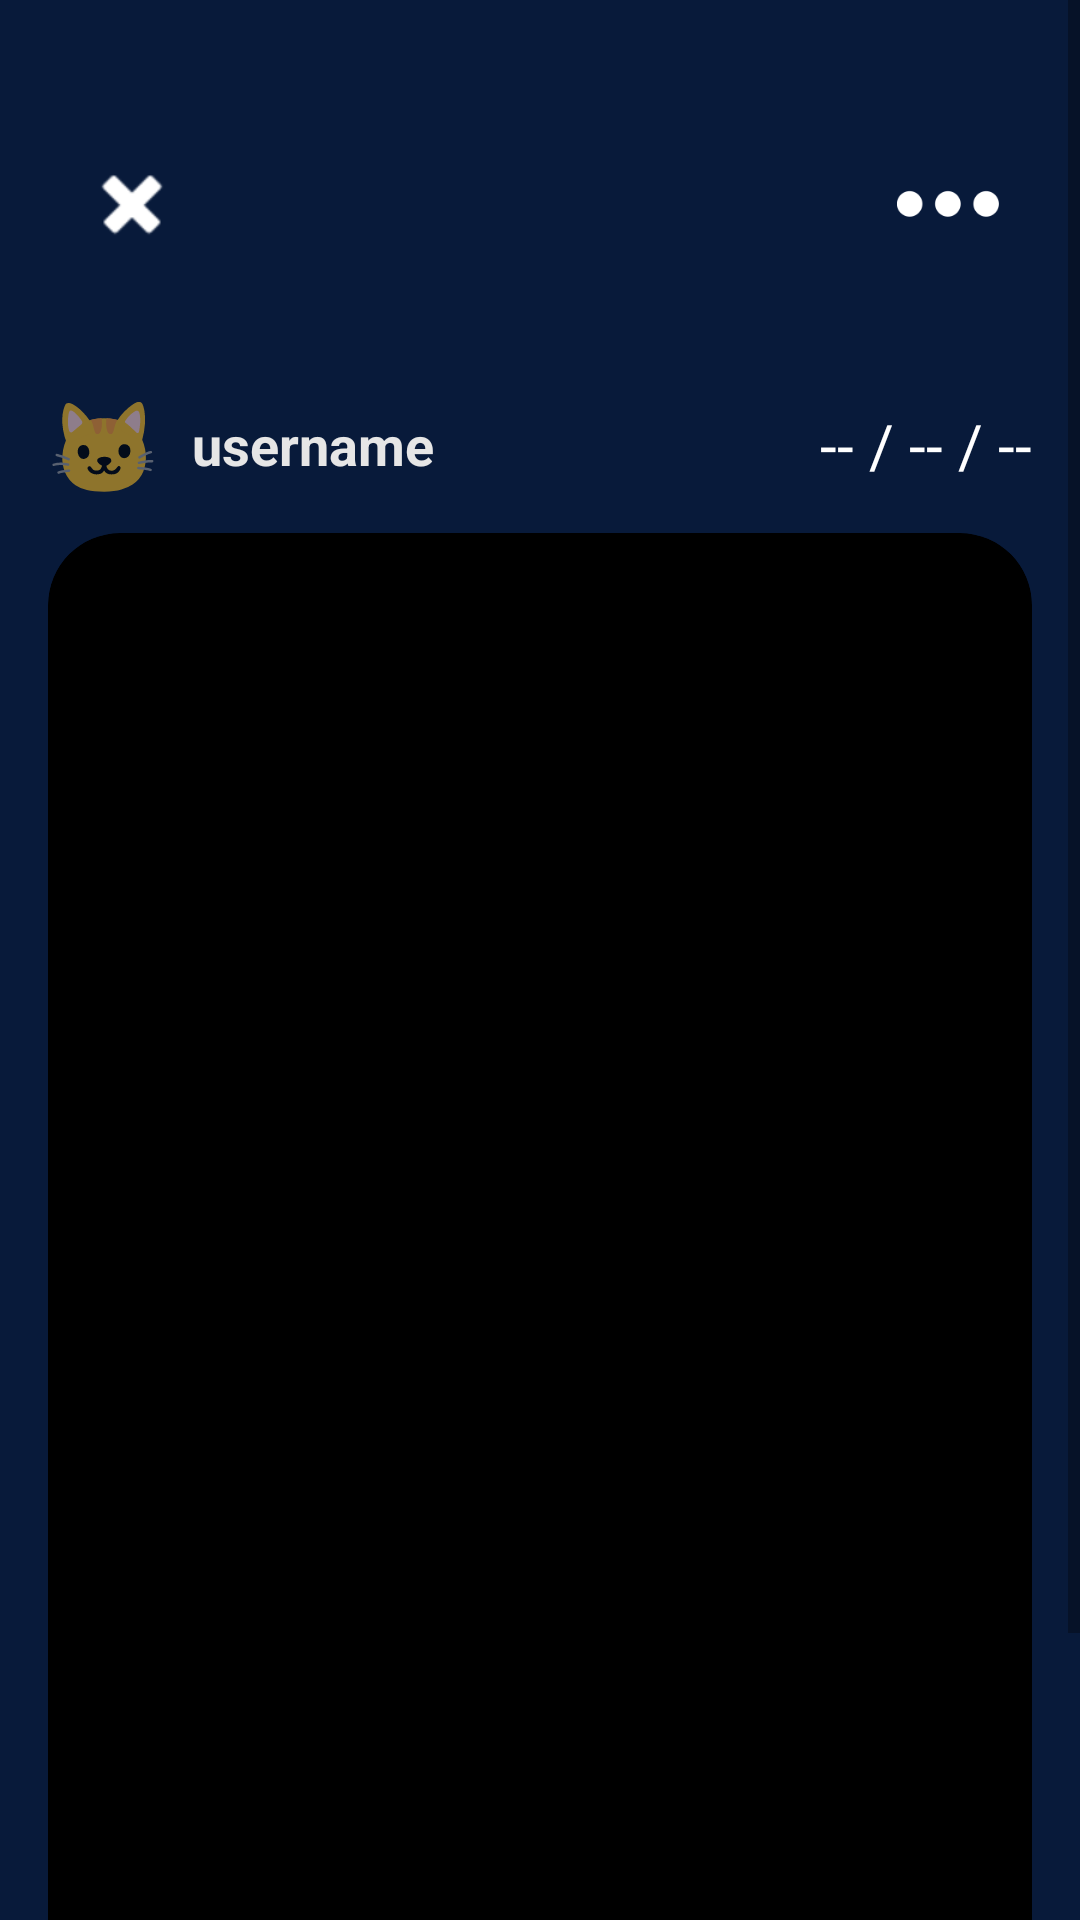

Where icons sit on this 1080px x 1920px app screen, as (x1, y1, x2, y2):
delete: (101, 175, 163, 234)
points: (897, 191, 999, 217)
